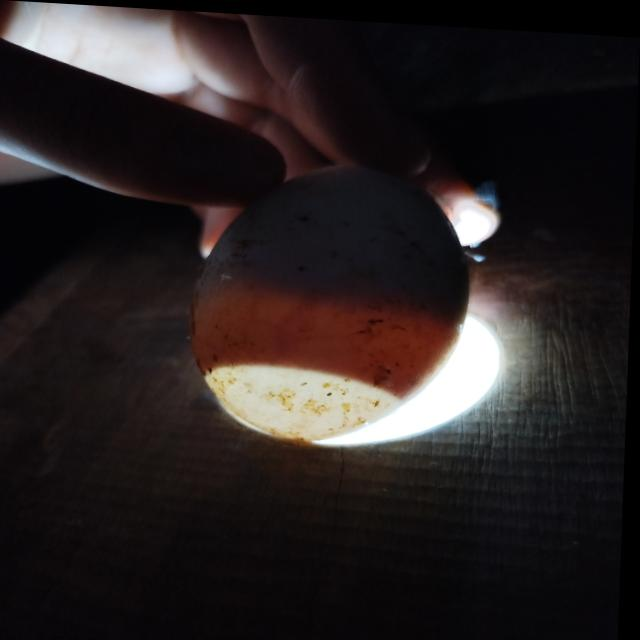Embriao: (199, 162, 470, 313)
